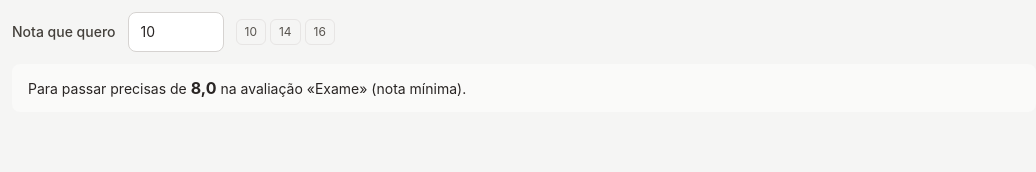
Test case: atualiza para a nota-alvo 14 e 20
Replace the text in the number field labelled "Nota que quero" with "14" at {"x": 176, "y": 32}, box [128, 12, 224, 52]
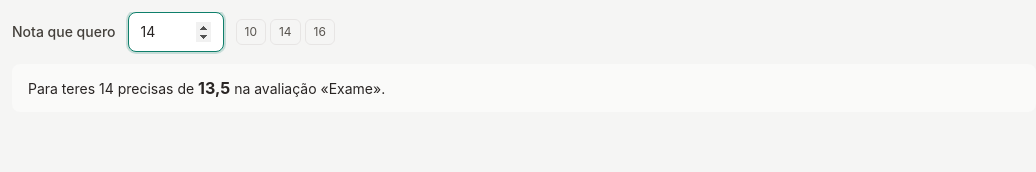
Now the text "Para teres 14 precisas de 13,5 na avaliação «Exame»." is shown, box [12, 64, 1035, 112]
Replace the text in the number field labelled "Nota que quero" with "20" at {"x": 176, "y": 32}, box [128, 12, 224, 52]
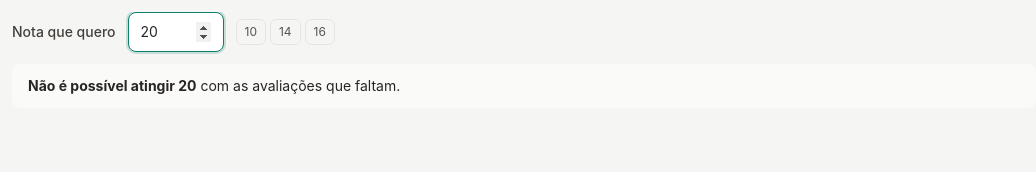
Now the text "Não é possível atingir 20" is shown, box [28, 77, 196, 94]
